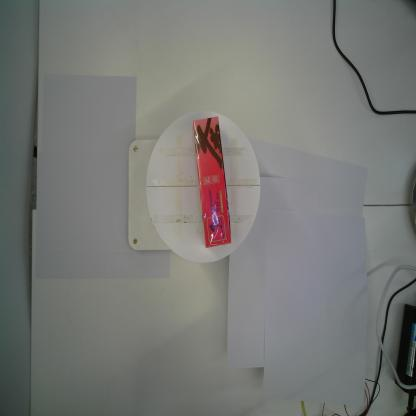Instant Drink: (192, 115, 232, 249)
